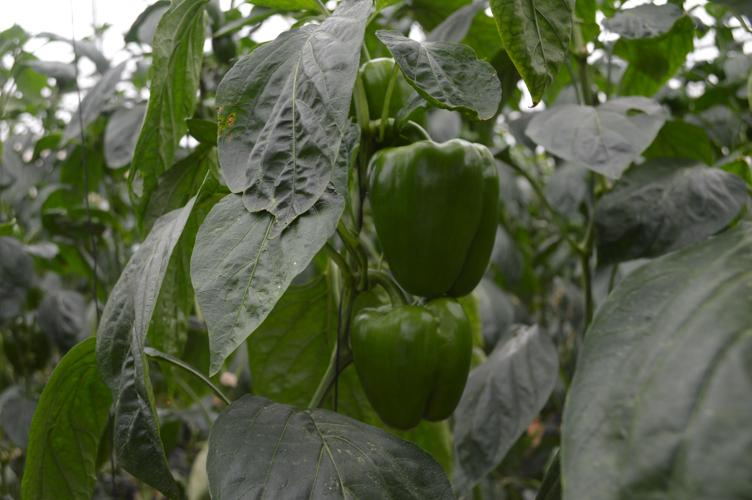BellPepper: (363, 141, 518, 308), (332, 294, 475, 435), (339, 49, 423, 138)
